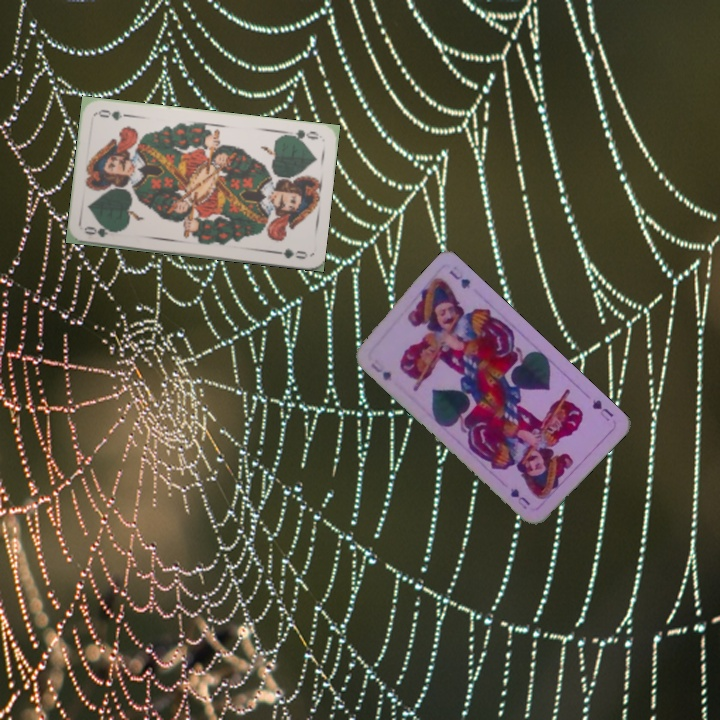GO: (81, 222, 122, 240), (282, 126, 321, 143)
GU: (588, 395, 616, 424), (366, 359, 394, 383)
